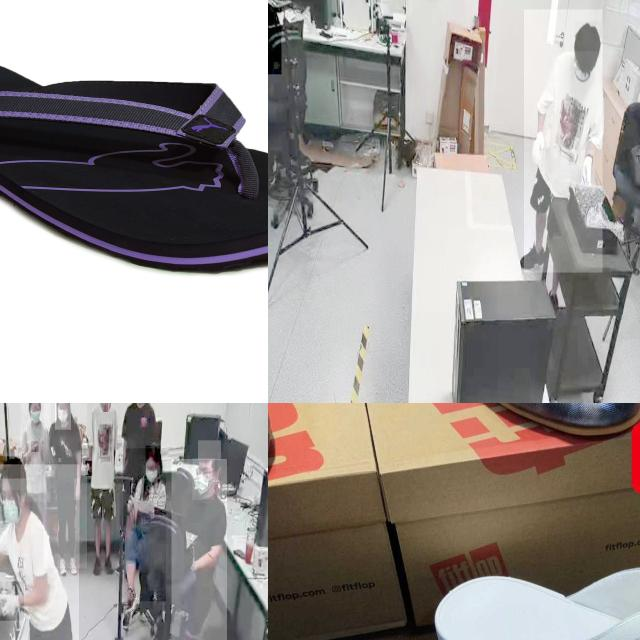Sandals: (0, 55, 268, 276), (404, 541, 640, 640)
face_mask: (193, 458, 215, 501), (0, 490, 20, 527), (55, 403, 71, 429), (146, 462, 158, 488), (30, 403, 42, 426), (99, 403, 109, 407)
hand_glove: (0, 581, 24, 621), (530, 128, 548, 168), (581, 150, 595, 195)
hand_noglove: (74, 478, 81, 501), (85, 461, 93, 477), (31, 441, 39, 453)
head_nohelmet: (575, 21, 601, 52), (0, 456, 26, 479), (198, 440, 222, 461), (146, 446, 162, 462)
person: (524, 10, 603, 274), (0, 464, 79, 640), (171, 459, 227, 640), (43, 403, 87, 569), (80, 403, 121, 567), (124, 448, 166, 602), (20, 403, 50, 502)
shoes: (515, 237, 549, 275), (67, 553, 79, 577), (104, 553, 114, 577), (57, 556, 67, 578), (92, 556, 101, 577)
